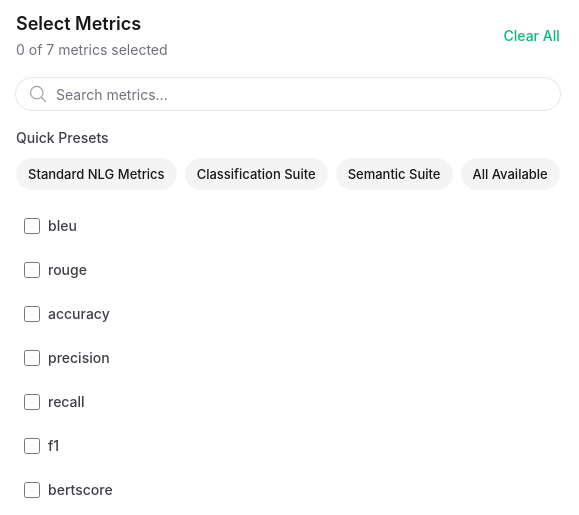
Test: MetricSelector › Search › shows no results message when search finds nothing
In the search field with placeholder "Search metrics...": (288, 94) [16,78,560,110], type "nonexistent"
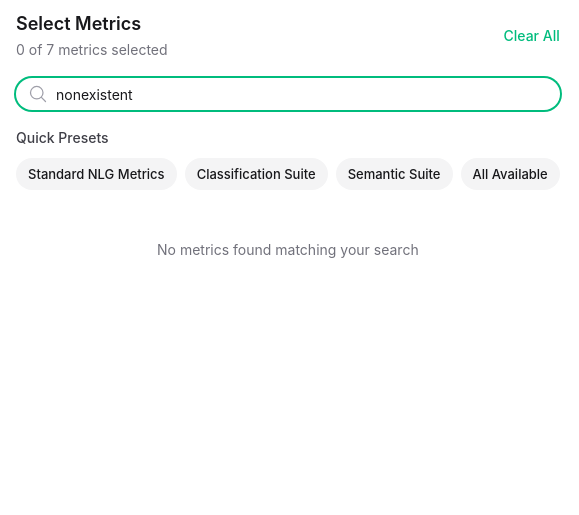
Expected: the text "No metrics found matching your search" is shown, [157,241,419,258]
